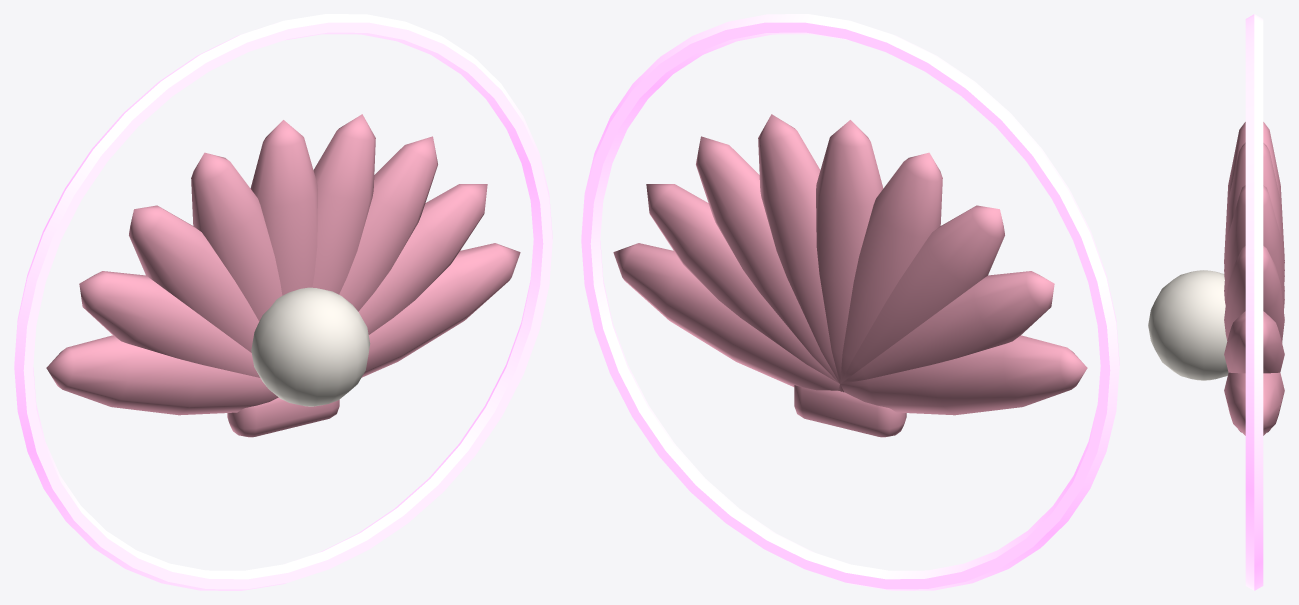
The model's file is mu_powerup_shell.glb.
The picture shows the model from 3 angles, left to right: view 1: azimuth 30°, elevation 25°; view 2: azimuth 150°, elevation 25°; view 3: azimuth 270°, elevation 25°; orthographic projection. The views are drawn at different scales.
Visible parts, largest first — view 1: mu_powerup_shell; view 2: mu_powerup_shell; view 3: mu_powerup_shell.
Part boxes in pixels (x1=…): mu_powerup_shell: x1=14, y1=14, x2=552, y2=590; mu_powerup_shell: x1=581, y1=14, x2=1119, y2=590; mu_powerup_shell: x1=1148, y1=14, x2=1284, y2=590.
Size of the model in its own units: 1.14 by 1.14 by 0.27.
